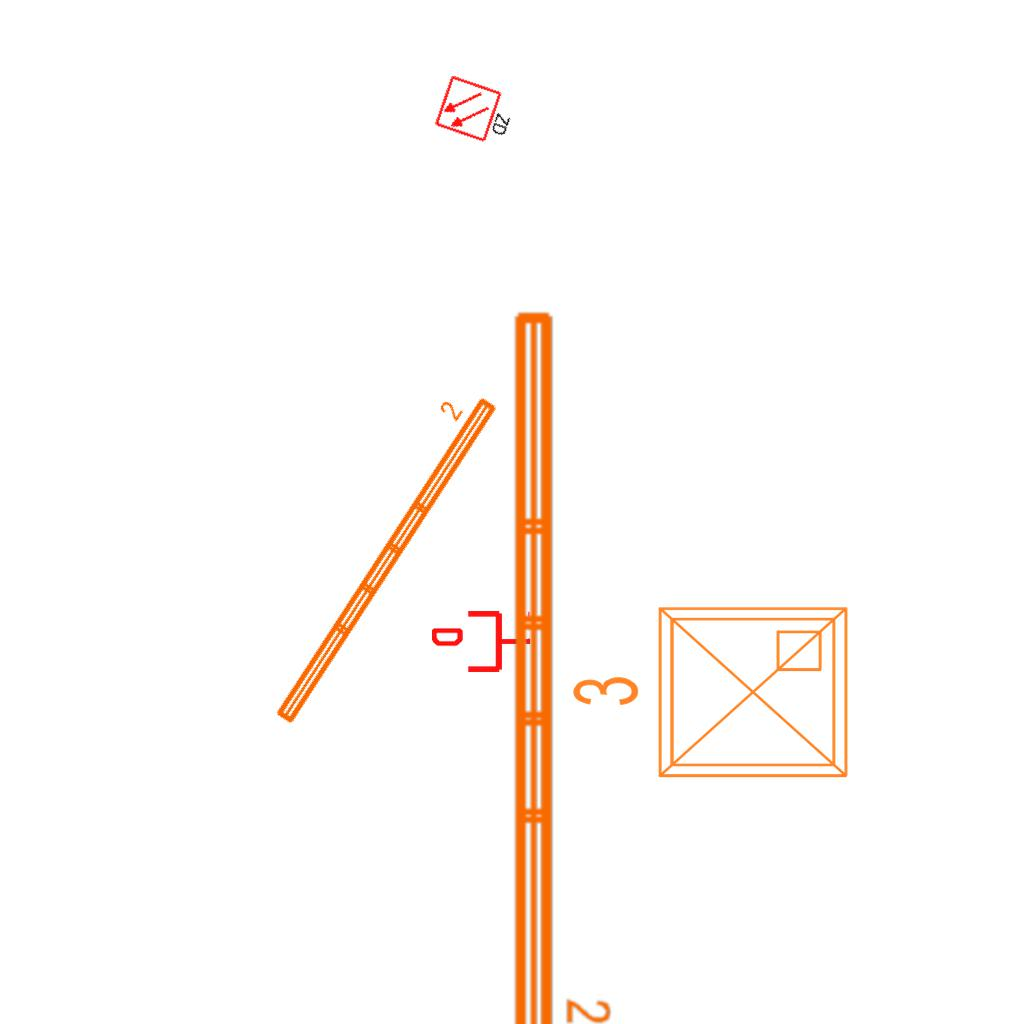Ambulanz_Pendelleuchte_LED: (246, 376, 505, 732), (503, 302, 615, 1024)
Datenanschluss_einfach: (432, 607, 532, 676)
Einbaudownlights_LED_Konferenzraeume: (562, 592, 862, 800)
ZD_Melder_in_Zwischendecke_mit_Revisionsoeffnung_mind_40_x_40_cm: (433, 72, 522, 150)
